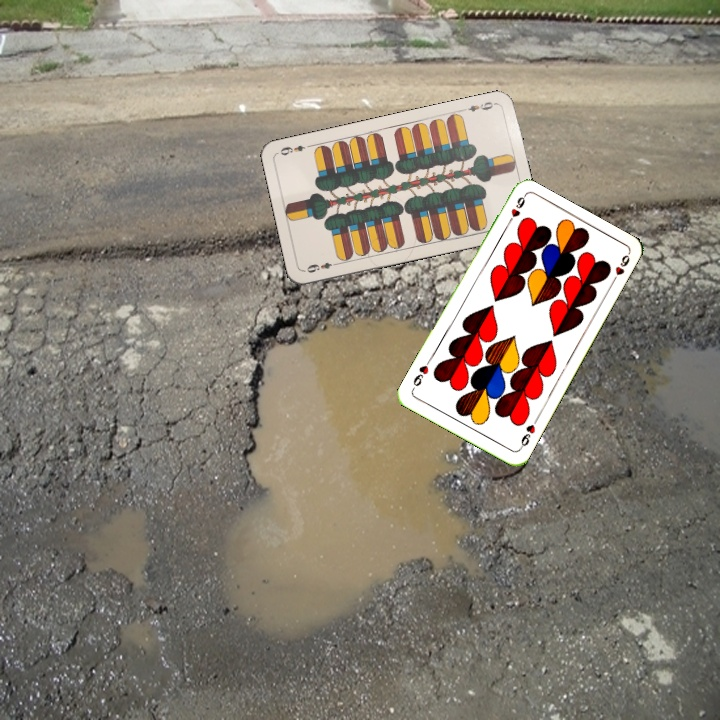E9: (458, 97, 499, 114), (303, 258, 341, 275)
H9: (502, 192, 528, 229), (515, 415, 540, 452)
